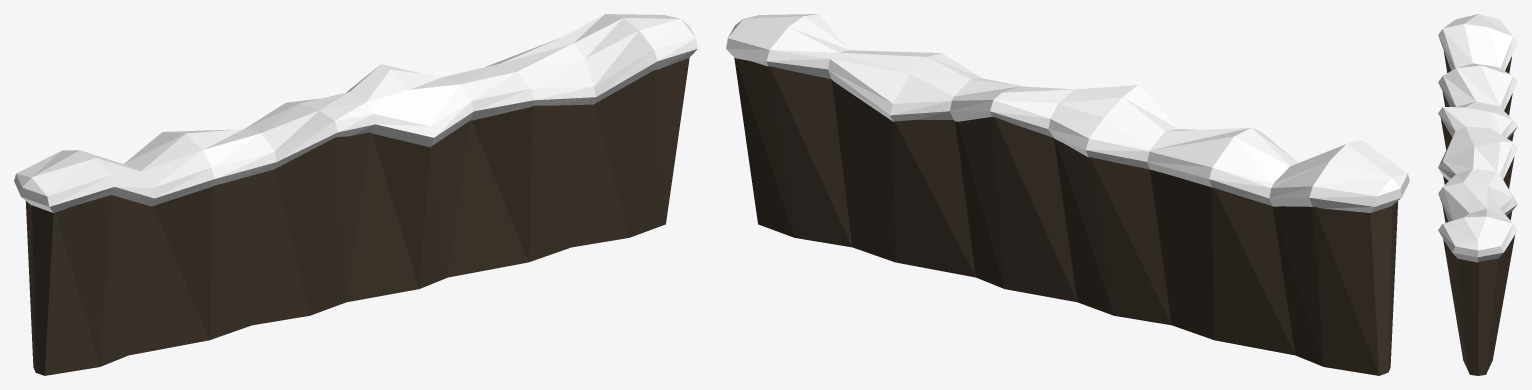
File: hedge.obj
3 renders of one model, left to right at view 1: azimuth 30°, elevation 25°; view 2: azimuth 150°, elevation 25°; view 3: azimuth 270°, elevation 25°, orthographic. The views are drawn at different scales.
Bounding box in the file's own units: 560 × 168 × 80.89.
